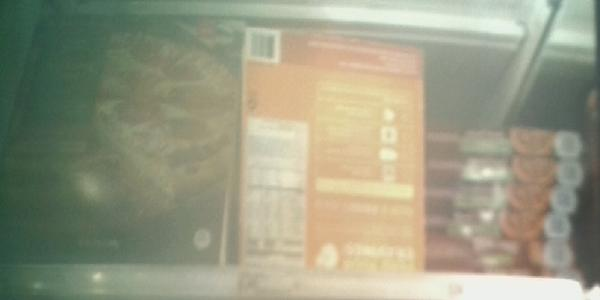pizza1: (1, 5, 246, 259), (243, 24, 427, 274)
pizza2: (427, 128, 589, 159), (428, 157, 585, 188), (425, 238, 575, 267), (426, 212, 578, 239), (427, 186, 580, 212)
